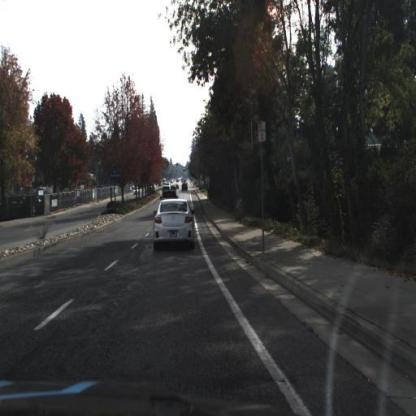car: (151, 200, 196, 251), (160, 188, 179, 204), (132, 185, 142, 197), (181, 182, 190, 195)
